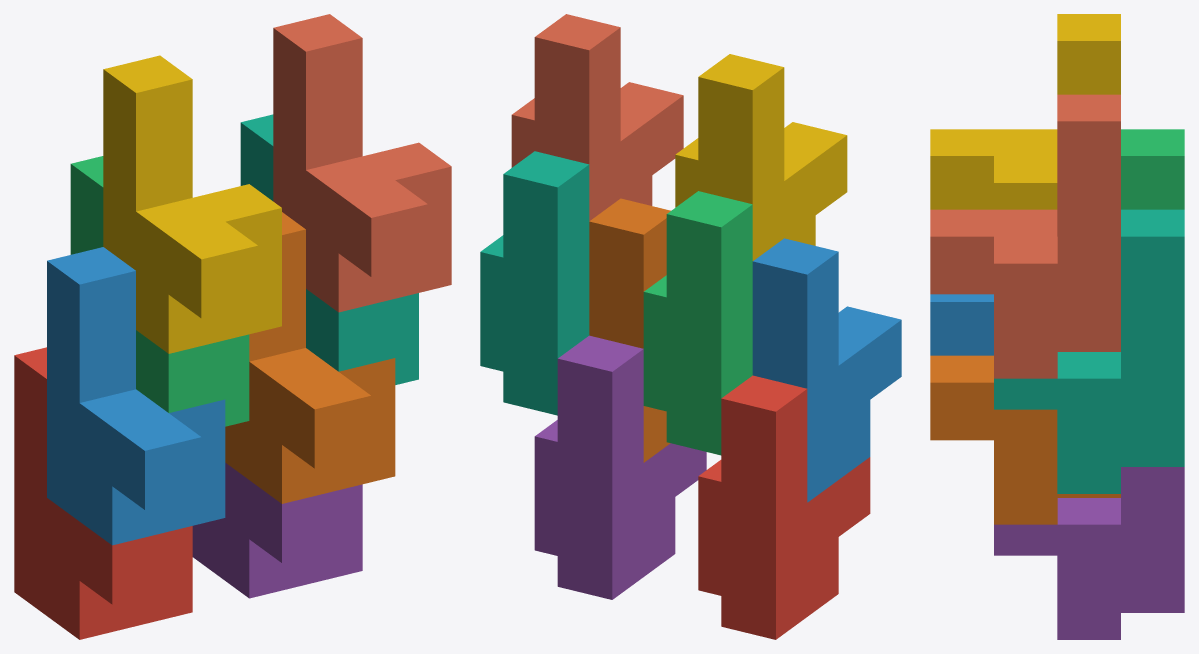
File: tiling.obj
The picture shows the model from 3 angles, left to right: view 1: azimuth 30°, elevation 25°; view 2: azimuth 150°, elevation 25°; view 3: azimuth 270°, elevation 25°; orthographic projection. The views are drawn at different scales.
Visible parts, largest first — view 1: copy_1_domain_2, copy_1_domain_4, copy_1_domain_8, copy_1_domain_6, copy_1_domain_1, copy_1_domain_5, copy_1_domain_3, copy_1_domain_7; view 2: copy_1_domain_1, copy_1_domain_5, copy_1_domain_3, copy_1_domain_2, copy_1_domain_7, copy_1_domain_4, copy_1_domain_8, copy_1_domain_6; view 3: copy_1_domain_8, copy_1_domain_7, copy_1_domain_5, copy_1_domain_4, copy_1_domain_6, copy_1_domain_3, copy_1_domain_2.
Part boxes in pixels (x1,y1,x2,y2): copy_1_domain_2: (47,247,225,545); copy_1_domain_4: (103,55,281,353); copy_1_domain_8: (273,14,451,312); copy_1_domain_6: (225,212,395,503); copy_1_domain_1: (14,347,192,639); copy_1_domain_5: (192,463,362,598); copy_1_domain_3: (70,156,249,426); copy_1_domain_7: (240,114,418,384); copy_1_domain_1: (698,375,870,639); copy_1_domain_5: (534,335,706,599); copy_1_domain_3: (643,191,752,455); copy_1_domain_2: (752,238,901,502); copy_1_domain_7: (480,151,589,415); copy_1_domain_4: (675,54,847,260); copy_1_domain_8: (511,14,683,220); copy_1_domain_6: (589,198,670,462); copy_1_domain_8: (930,94,1120,378); copy_1_domain_7: (994,209,1184,493); copy_1_domain_5: (994,467,1184,639); copy_1_domain_4: (930,14,1120,209); copy_1_domain_6: (930,355,1120,524); copy_1_domain_3: (1121,129,1184,209); copy_1_domain_2: (930,294,993,355).
Size of the model in its own units: 6 by 9 by 4.
